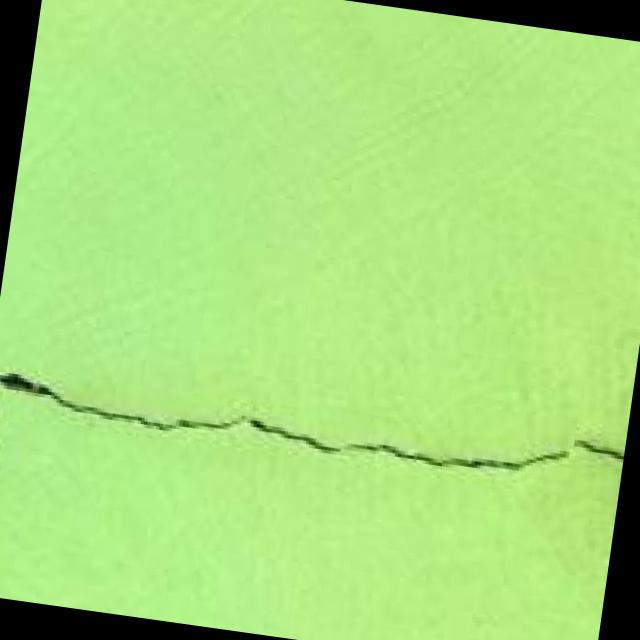crack: (0, 278, 633, 535)
